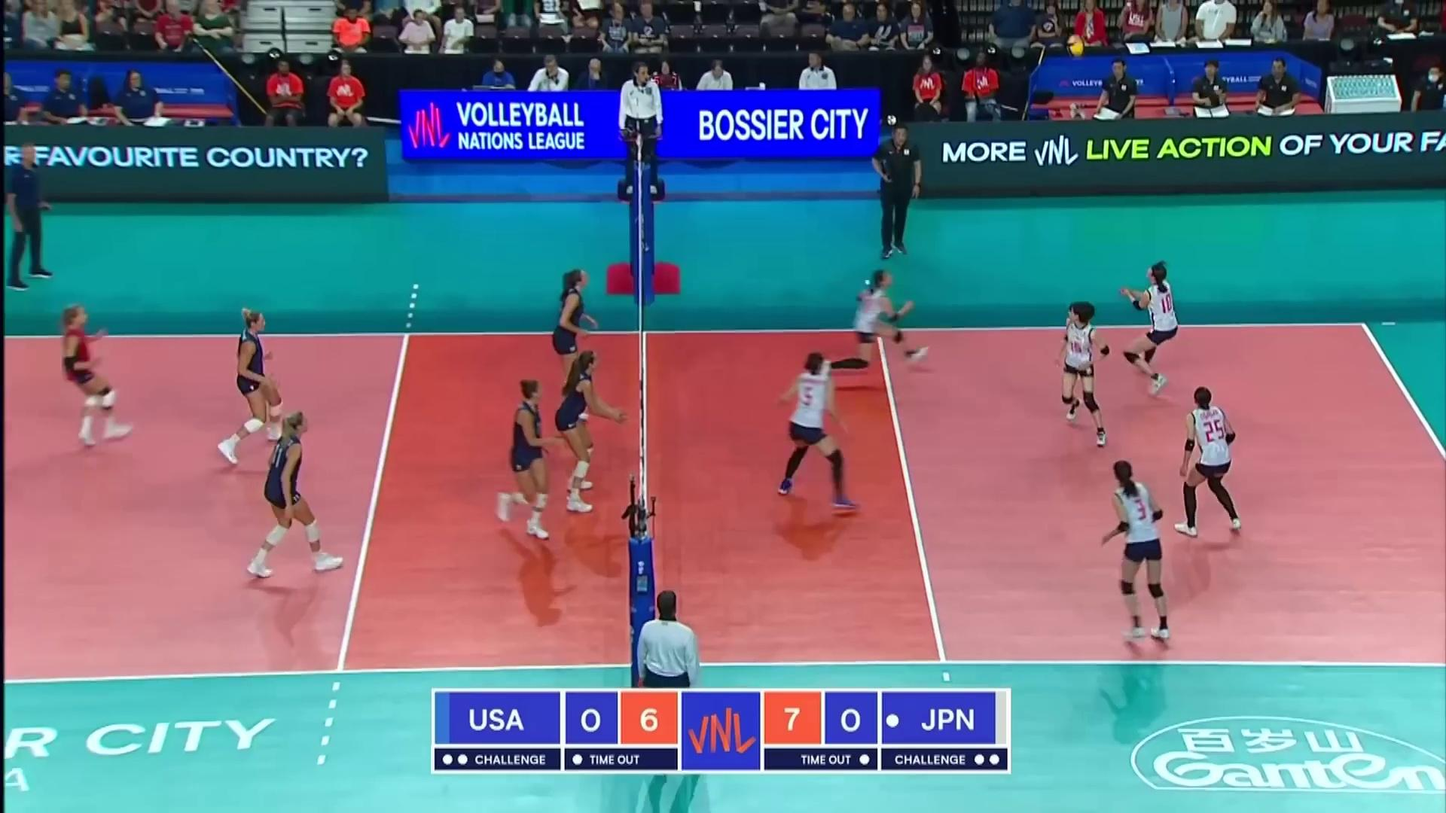player: (246, 408, 346, 580), (774, 348, 861, 513), (1100, 459, 1171, 644), (815, 267, 927, 374), (219, 307, 291, 466), (51, 304, 128, 445), (1179, 388, 1246, 537), (558, 347, 617, 514), (499, 379, 560, 539), (1121, 262, 1182, 390), (551, 268, 599, 428), (1058, 299, 1112, 439)
refree: (636, 597, 698, 769), (619, 62, 661, 194)
